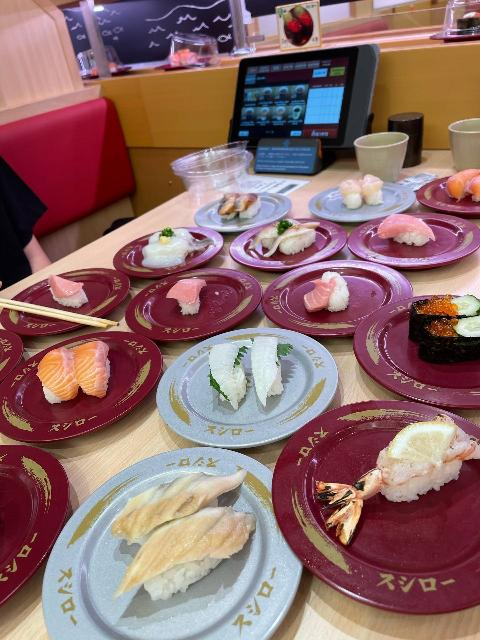janred: (271, 401, 479, 583), (14, 341, 161, 444), (360, 301, 480, 399), (127, 256, 260, 344), (0, 442, 70, 605), (264, 269, 411, 327), (356, 216, 480, 266), (10, 287, 127, 334), (232, 229, 356, 265), (112, 241, 222, 272), (137, 58, 221, 80), (423, 174, 480, 206), (428, 22, 480, 55), (0, 312, 21, 380), (73, 65, 137, 81)
janwhite: (62, 446, 296, 622), (170, 320, 348, 437), (184, 186, 300, 236), (303, 180, 420, 226)
